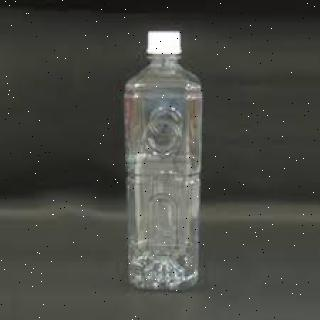Plastic-bottle: (120, 27, 206, 296)
